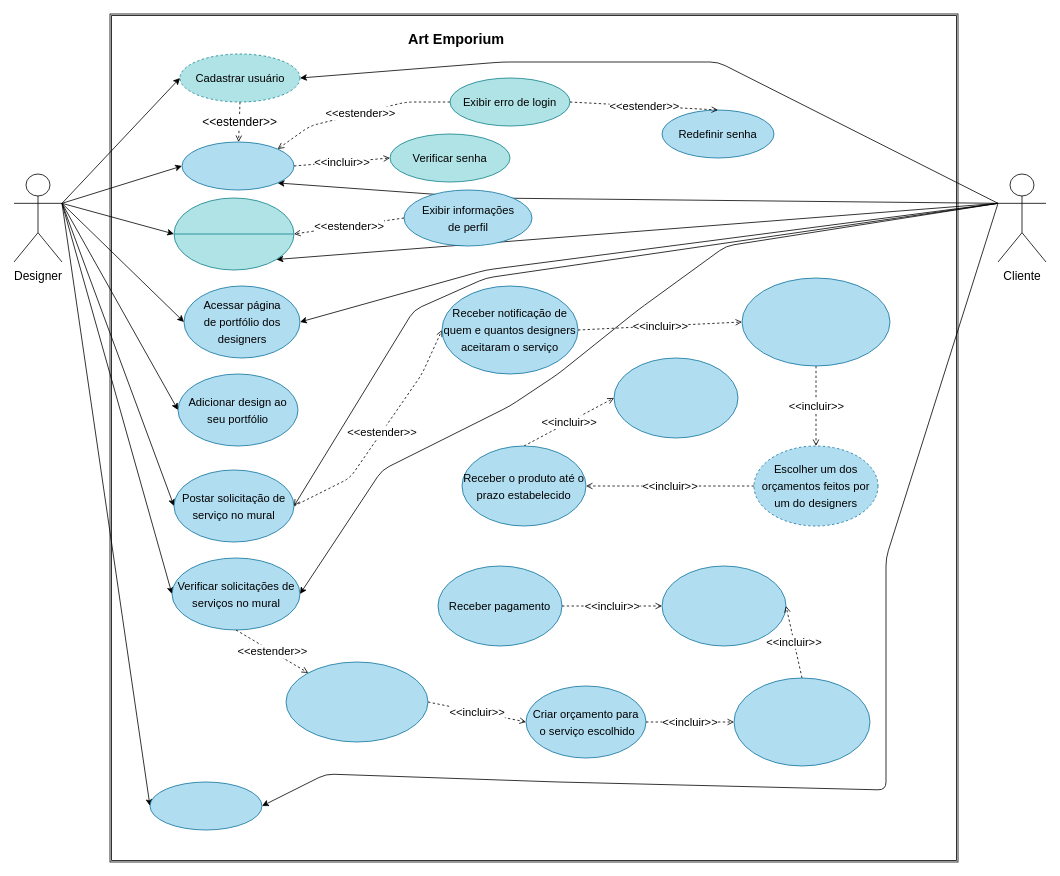
Image size: 1060x876. Some labels were removed from this diagram. The centre of each missing label's shape, as x and y in pixels:
"Configurar seu perfil" belongs at [233,233].
"Enviar o produto até o prazo estabelecido" belongs at [723,605].
"Escolher um das solicitatções dispostas no mural serviços do mural" belongs at [356,701].
"Exclusão de usuário" belongs at [205,805].
"Fazer o pagamento ao designer" belongs at [675,397].
"Logar no sistema" belongs at [237,165].
"Receber notificação de escolha de orçamento" belongs at [801,721].
"Receber orçamentos dos designers que aceitaram o serviço" belongs at [815,321].
